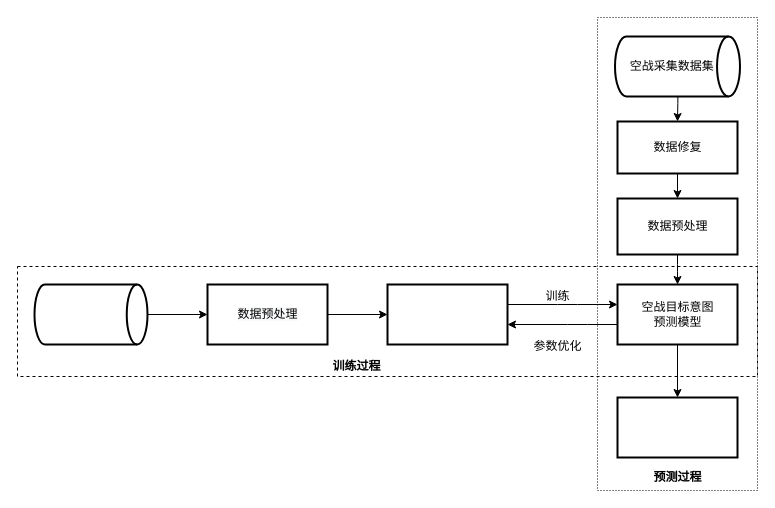
Image size: 775x508. Some labels were removed from this diagram. The box of each missing label's shape, as (x1, y1, x2, y2) in pixels:
LSTM网络训练: (386, 283, 508, 345)
目标意图预测结果: (616, 396, 738, 458)
空战数据集: (33, 283, 148, 345)
